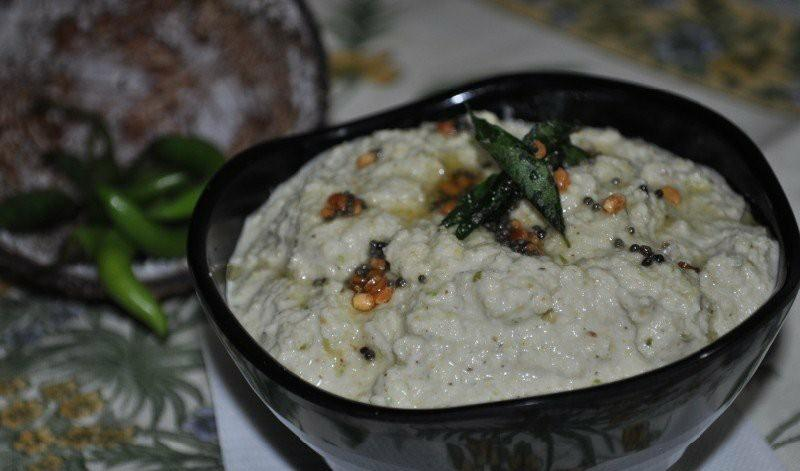CoconutChutney: (218, 114, 781, 407)
